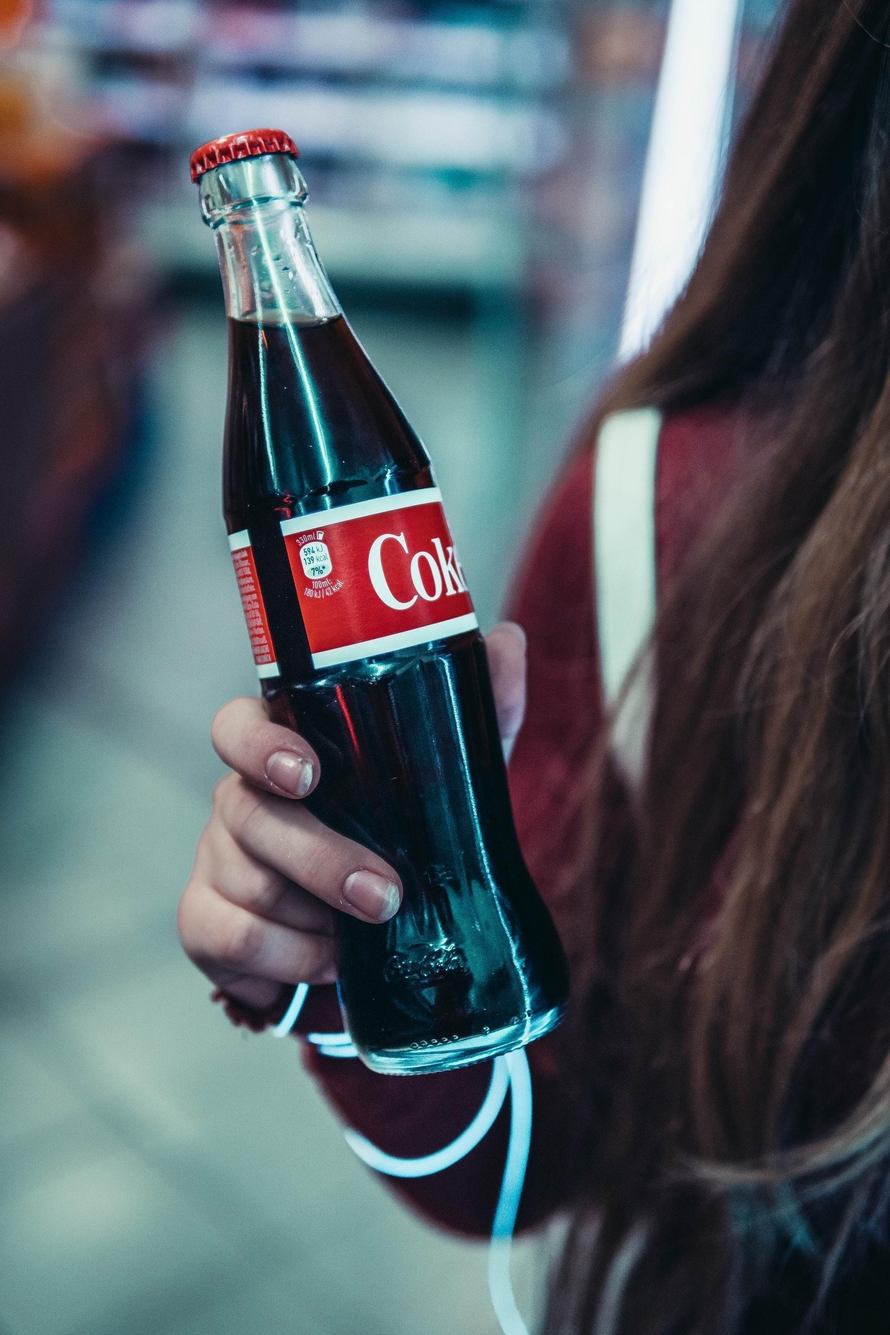bottle-glass: (187, 124, 570, 1076)
